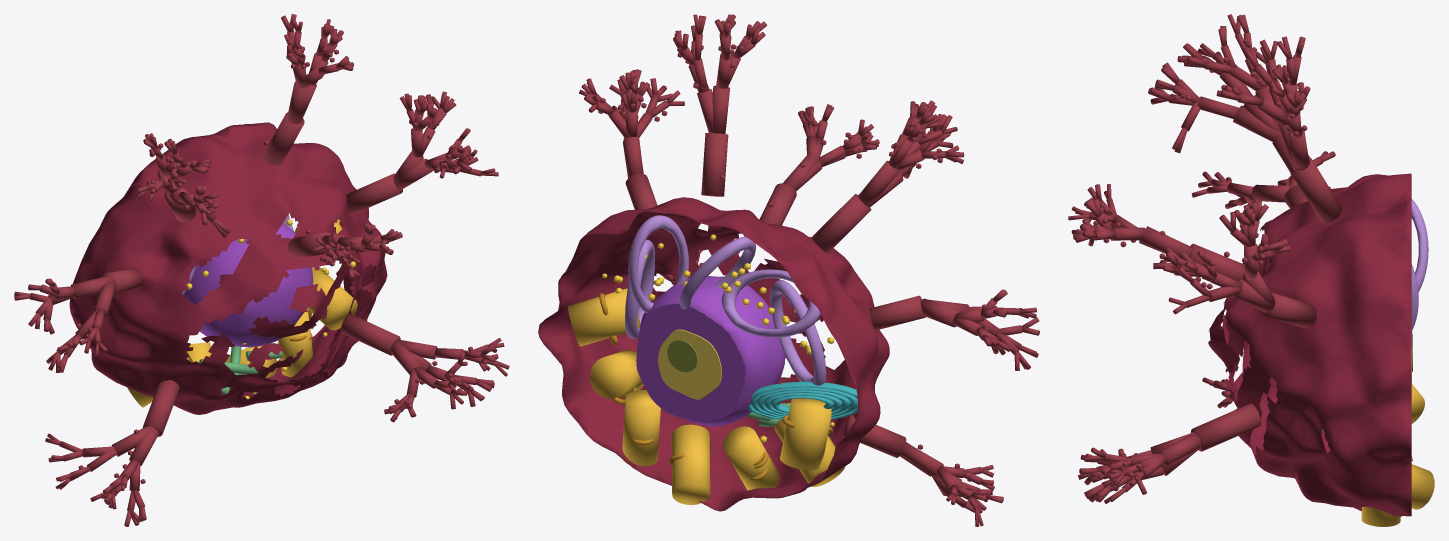
Rendered from sketchfab-neuron-soma.glb.
3 renders of one model, left to right at view 1: azimuth 30°, elevation 25°; view 2: azimuth 150°, elevation 25°; view 3: azimuth 270°, elevation 25°, orthographic. The views are drawn at different scales.
Visible parts, largest first — view 1: Soma_0, NucleusOuter_592, Mito_0_13, Dendrite_d0.004_314, Dendrite_d0.002_190, Dendrite_d0.005_399, Mito_2_15, Dendrite_d0_45, Dendrite_d0.006_455, Dendrite_d0.003_271, Dendrite_d1.001_77; view 2: Soma_0, NucleusOuter_592, Mito_1_14, Mito_6_19, NucleoplasmGold_593, Mito_2_15, RoughER_4_5, Mito_4_17, Mito_3_16, RoughER_3_4, RoughER_1_2, Mito_0_13 (+18 smaller); view 3: Soma_0, Dendrite_d0.004_314, Dendrite_d0_45, Dendrite_d0.002_190, RoughER_2_3, Dendrite_d0.006_455, Mito_6_19, Dendrite_d1.014_457, Dendrite_d1.002_112, Dendrite_d1.009_315, Mito_2_15, Dendrite_d1.008_291 (+2 smaller).
Part boxes in pixels (x1,y1,x2,y2): Soma_0: (69,122,387,414); NucleusOuter_592: (183,222,313,347); Mito_0_13: (307,266,357,330); Dendrite_d0.004_314: (341,314,400,355); Dendrite_d0.002_190: (346,173,402,214); Dendrite_d0.005_399: (142,380,179,436); Mito_2_15: (278,309,313,377); Dendrite_d0_45: (263,112,304,165); Dendrite_d0.006_455: (287,232,331,258); Dendrite_d0.003_271: (102,268,141,293); Dendrite_d1.001_77: (287,81,309,124); Soma_0: (538,197,889,511); NucleusOuter_592: (636,276,785,426); Mito_1_14: (780,398,831,470); Mito_6_19: (671,424,710,504); NucleoplasmGold_593: (658,316,745,399); Mito_2_15: (622,389,660,466); RoughER_4_5: (770,280,826,385); Mito_4_17: (568,288,640,346); Mito_3_16: (722,426,779,490); RoughER_3_4: (721,269,820,337); RoughER_1_2: (628,215,688,313); Mito_0_13: (589,350,643,398); Soma_0: (1208,173,1411,516); Dendrite_d0.004_314: (1190,403,1261,451); Dendrite_d0_45: (1290,157,1342,222); Dendrite_d0.002_190: (1258,292,1316,327); RoughER_2_3: (1411,199,1428,291); Dendrite_d0.006_455: (1189,243,1244,280); Mito_6_19: (1411,464,1434,509); Dendrite_d1.014_457: (1140,226,1192,258); Dendrite_d1.002_112: (1233,105,1281,141); Dendrite_d1.009_315: (1158,433,1201,465); Mito_2_15: (1361,506,1400,526); Dendrite_d1.008_291: (1251,184,1290,202).
Bounding box in the file's own units: 5.91 × 5.87 × 3.82.
